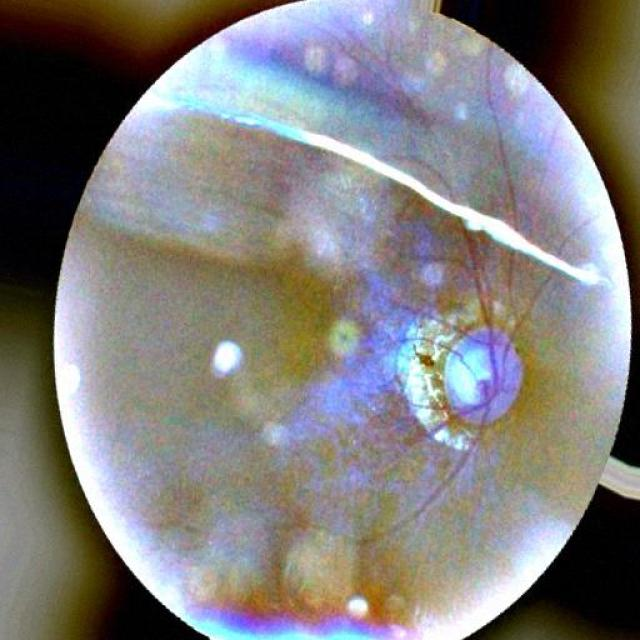Nerves: (465, 229, 515, 434), (421, 435, 478, 510), (499, 138, 515, 219)
Optic Disk: (444, 328, 521, 421)
